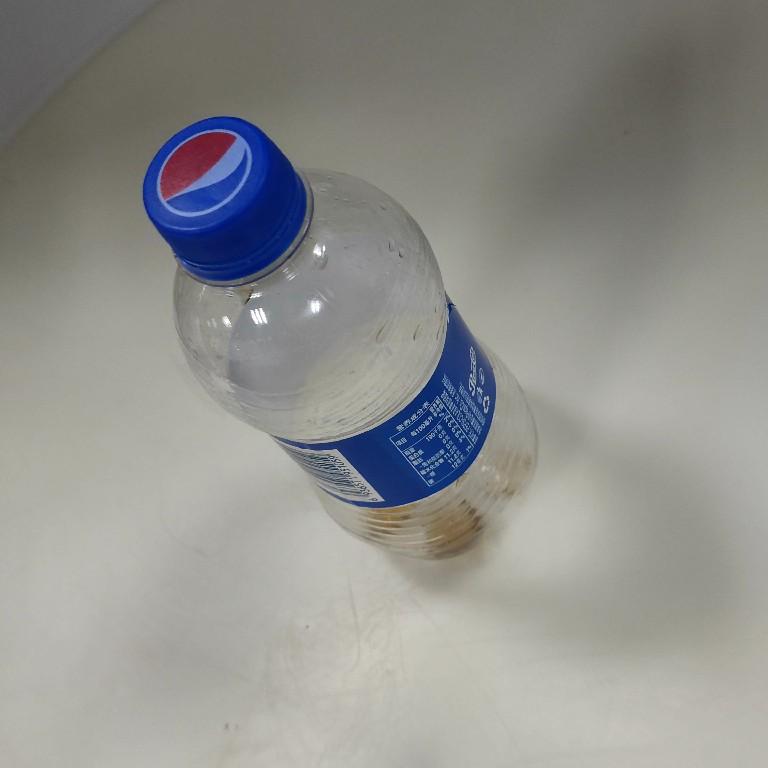bottle: (133, 110, 542, 570)
